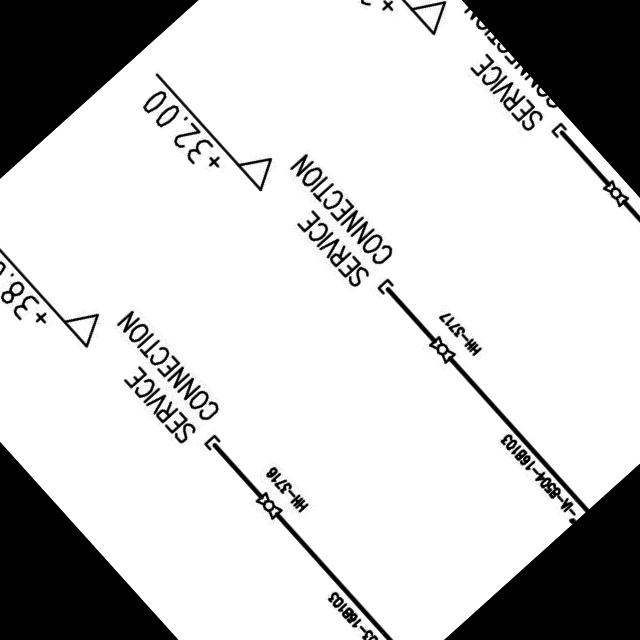BV2: (424, 333, 460, 369), (596, 176, 632, 212), (251, 489, 285, 524)
EC: (547, 120, 583, 156), (200, 431, 234, 467), (372, 274, 406, 310)
